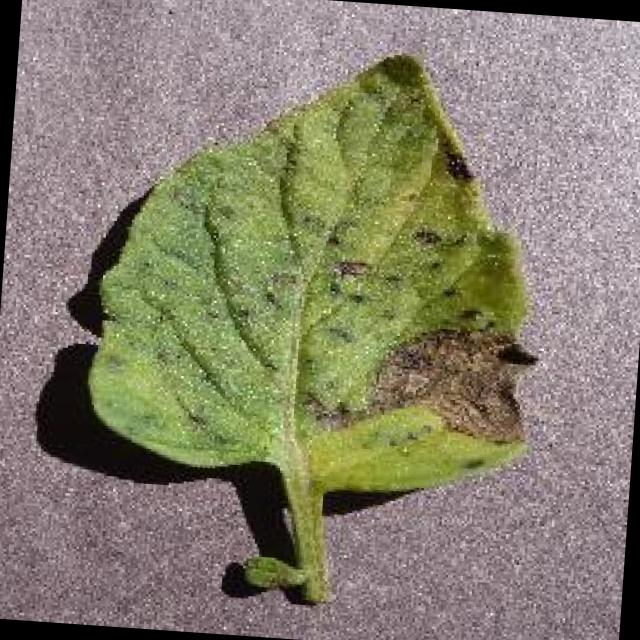Tomato_Early_Blight: (260, 30, 573, 518)
